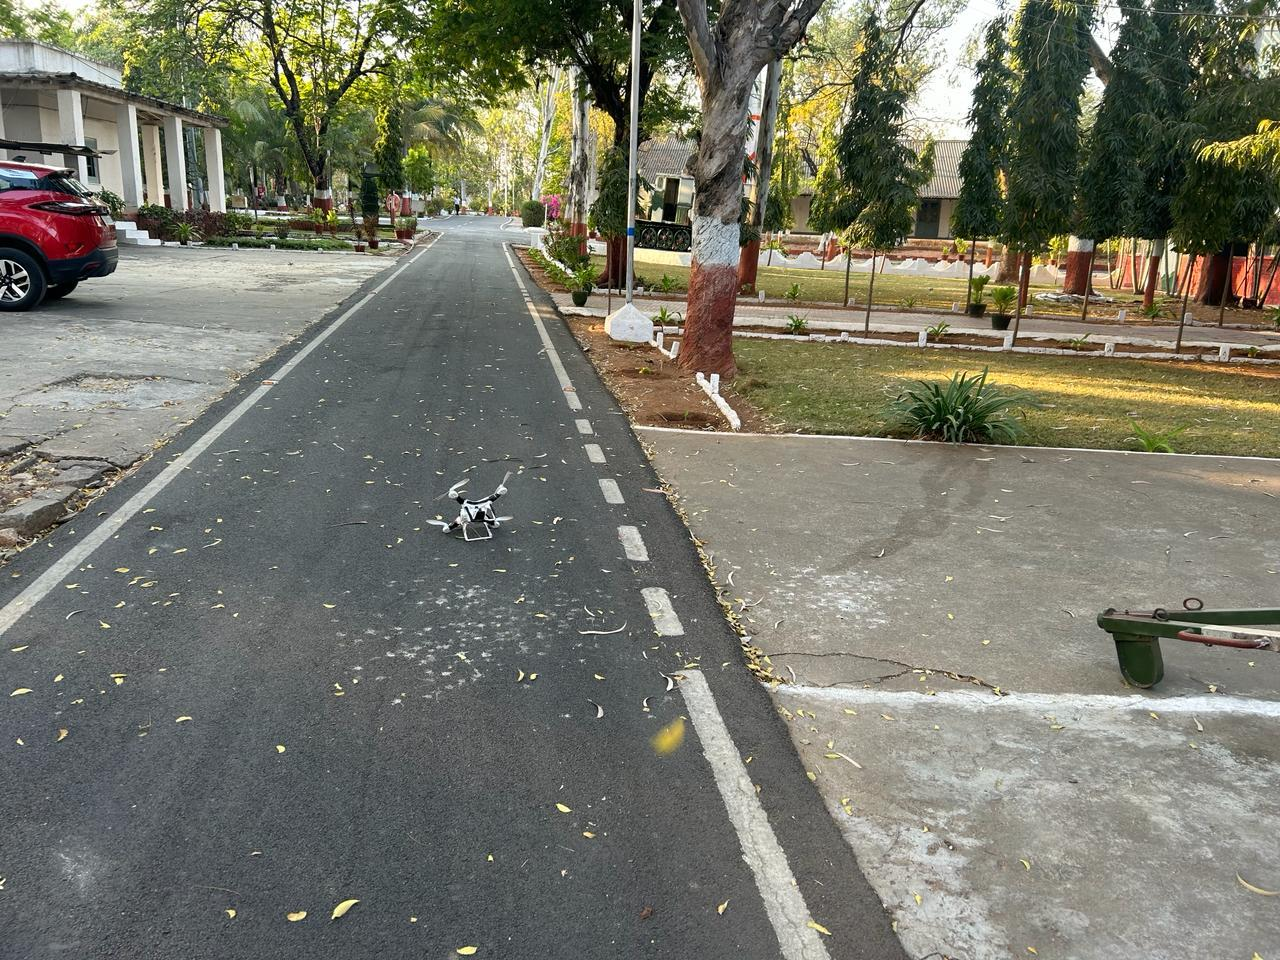drone: (422, 430, 569, 611)
